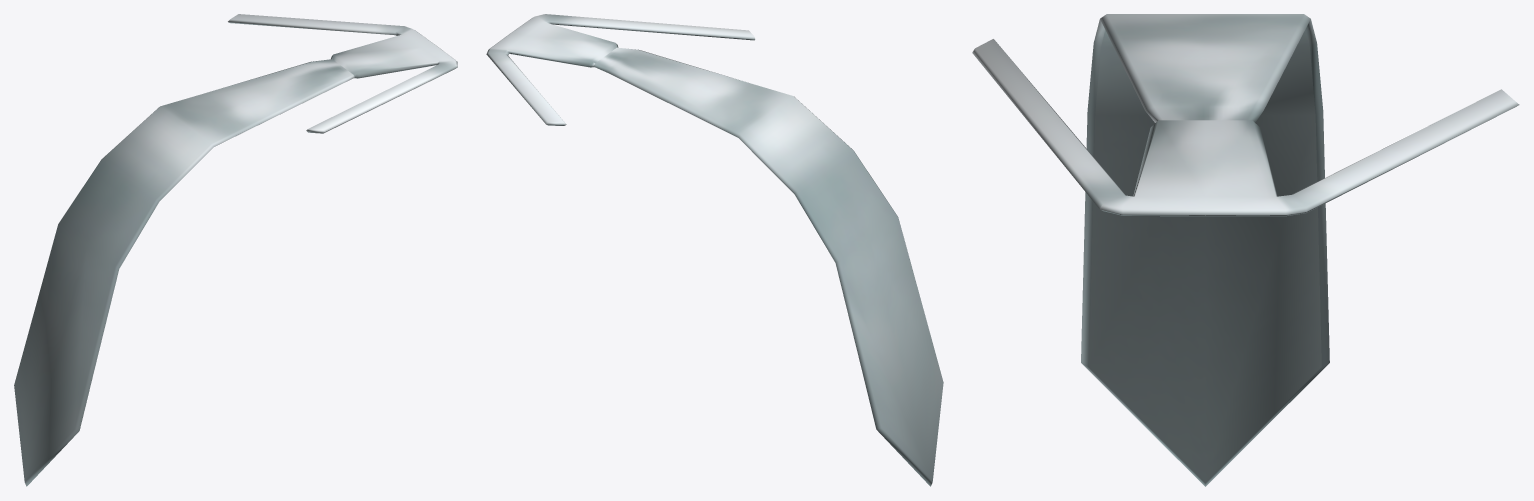
File: TouKuiZheJia_01_lingdai_01.FBX
3 renders of one model, left to right at view 1: azimuth 30°, elevation 25°; view 2: azimuth 150°, elevation 25°; view 3: azimuth 270°, elevation 25°, orthographic. The views are drawn at different scales.
Parts seen in each view (by area): view 1: TouKuiZheJia_lingdai_01; view 2: TouKuiZheJia_lingdai_01; view 3: TouKuiZheJia_lingdai_01.
Part boxes in pixels (x1,y1,x2,y2): TouKuiZheJia_lingdai_01: [14, 14, 457, 486]; TouKuiZheJia_lingdai_01: [486, 14, 943, 486]; TouKuiZheJia_lingdai_01: [972, 14, 1519, 486].
Bounding box in the file's own units: 224 × 180 × 134.
